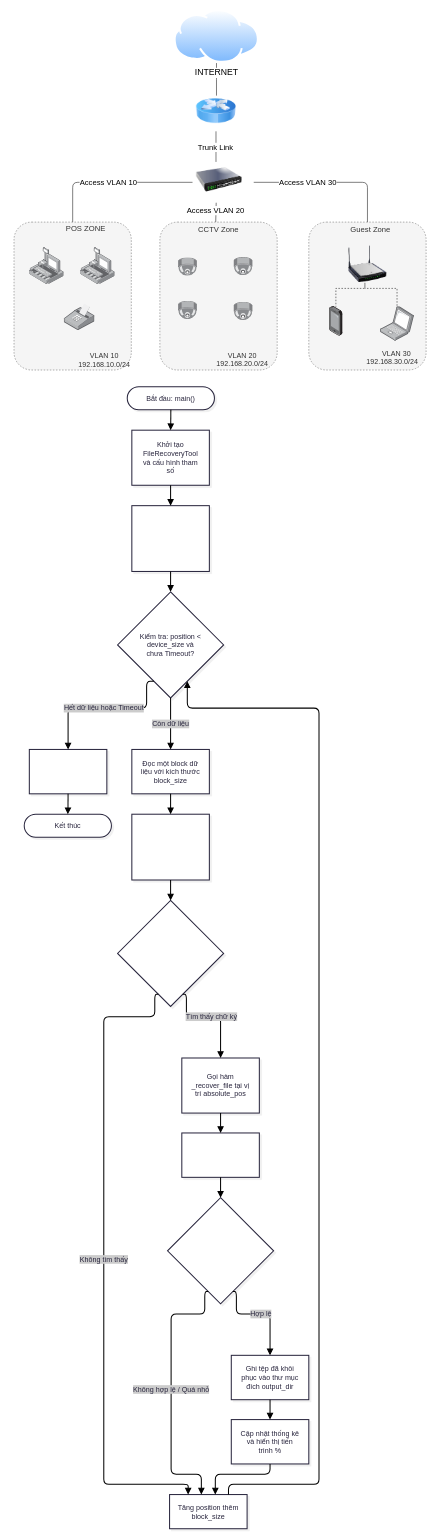
The diagram is 435 pixels wide and 1540 high, and some of its shapes have lost their labels. Here are the shapes that lost their labels. From the top down, the centre of each, then its label:
At pixel 171 539: "Mở nguồn dữ liệu ở chế độ đọc nhị phân rb và lấy kích thước thiết bị".
At pixel 69 772: "Gọi hàm _print_summary ghi log tổng kết".
At pixel 171 847: "Duyệt qua danh sách FILE_SIGNATURES để tìm Magic Number".
At pixel 171 954: "Tìm thấy chữ ký tệp tin?".
At pixel 221 1156: "Đọc nội dung tệp bằng Heuristic hoặc Trailer".
At pixel 221 1251: "Kiểm tra tính hợp lệ _validate_file_content()".
